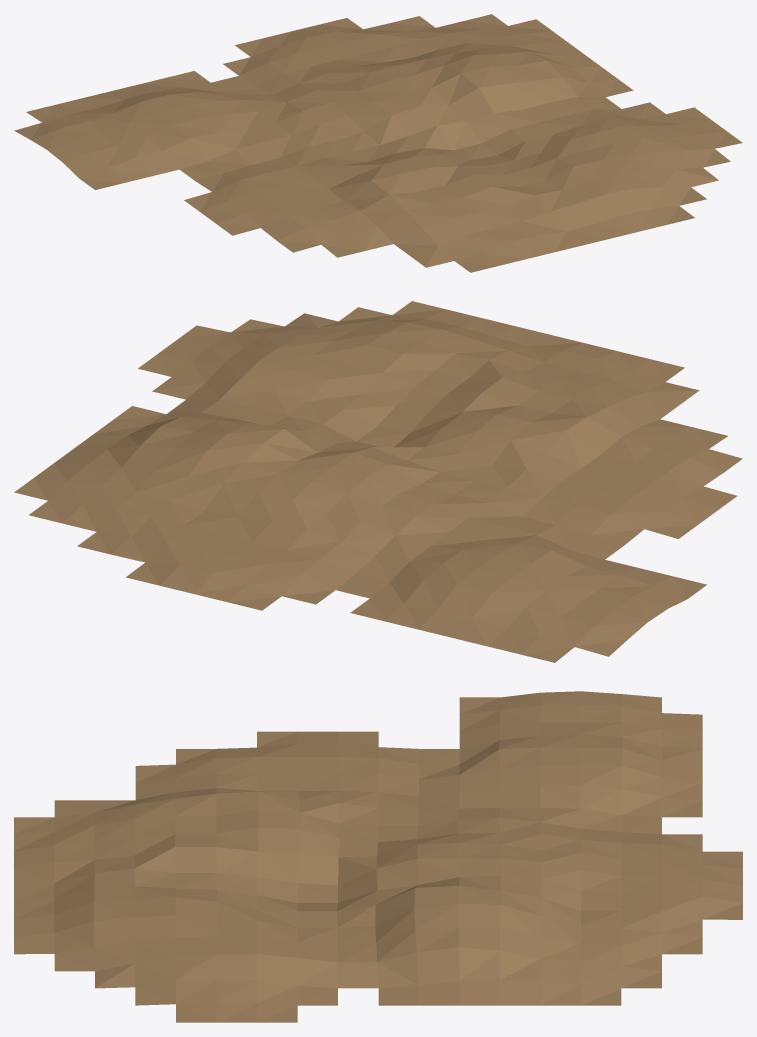
Rendered from SM_Env_GroundMounds_06.fbx.
3 views of the same model, one above another, from view 1: azimuth 30°, elevation 25°; view 2: azimuth 150°, elevation 25°; view 3: azimuth 270°, elevation 25° (orthographic). The views are drawn at different scales.
Parts seen in each view (by area): view 1: SM_Env_GroundMounds_06; view 2: SM_Env_GroundMounds_06; view 3: SM_Env_GroundMounds_06.
Boxes of the visible parts, x1,y1,x2,y2 form: SM_Env_GroundMounds_06: (14, 14, 742, 272); SM_Env_GroundMounds_06: (14, 301, 742, 662); SM_Env_GroundMounds_06: (14, 691, 742, 1022).
Bounding box in the file's own units: 0.0771 × 0.00383 × 0.0731.
1 material, 1 textured.
